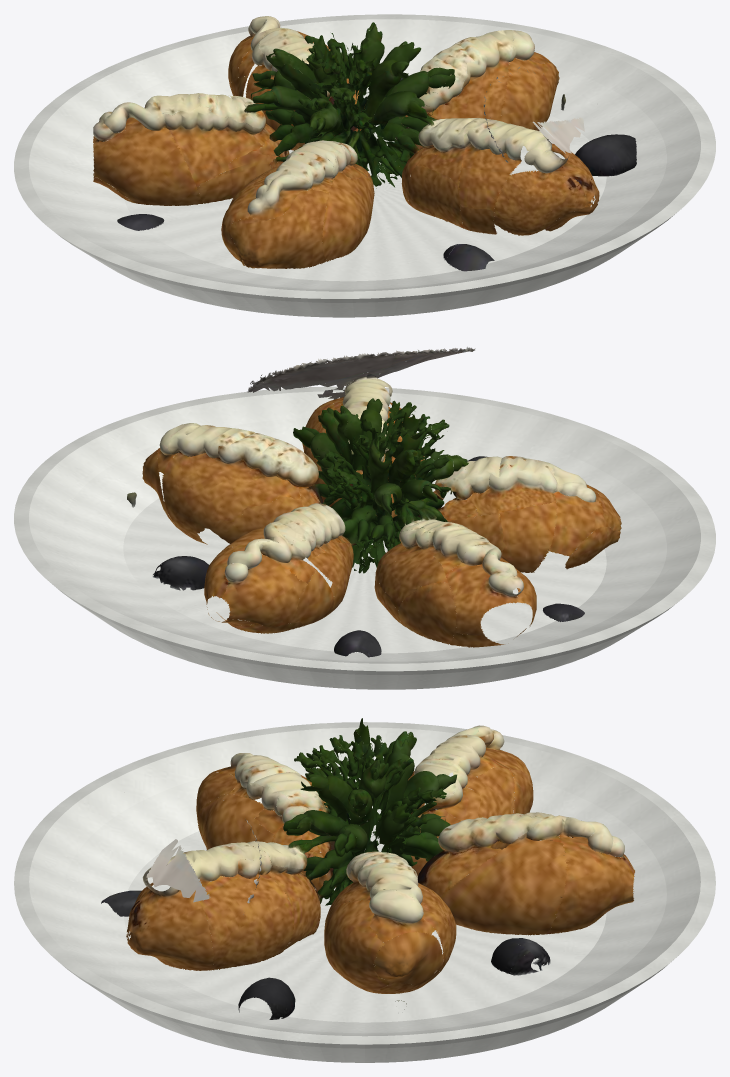
File: kroket.glb
3 views of the same model, one above another, from view 1: azimuth 30°, elevation 25°; view 2: azimuth 150°, elevation 25°; view 3: azimuth 270°, elevation 25° (orthographic). The views are drawn at different scales.
Visible parts, largest first — view 1: tripo_node_b57a595a-9a19-4131-9a5b-fe3f24b5713c, plate; view 2: plate, tripo_node_b57a595a-9a19-4131-9a5b-fe3f24b5713c; view 3: plate, tripo_node_b57a595a-9a19-4131-9a5b-fe3f24b5713c.
Part boxes in pixels (x1=…): tripo_node_b57a595a-9a19-4131-9a5b-fe3f24b5713c: x1=93, y1=16, x2=636, y2=271; plate: x1=14, y1=14, x2=715, y2=317; plate: x1=14, y1=386, x2=715, y2=689; tripo_node_b57a595a-9a19-4131-9a5b-fe3f24b5713c: x1=127, y1=346, x2=621, y2=657; plate: x1=14, y1=722, x2=715, y2=1062; tripo_node_b57a595a-9a19-4131-9a5b-fe3f24b5713c: x1=101, y1=718, x2=634, y2=1019.
Size of the model in its own units: 0.93 by 0.2608 by 0.8556.
Materials: 2 (2 with a texture image).
